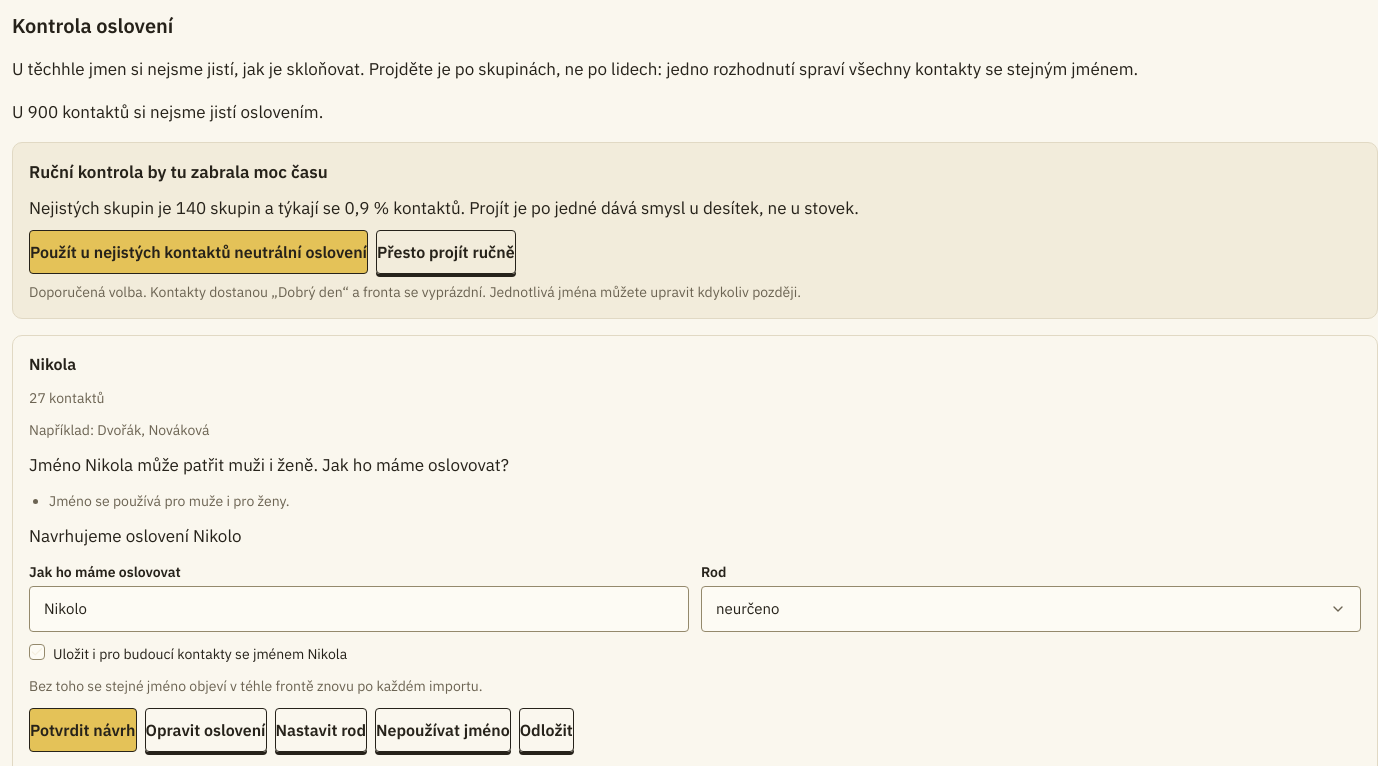
Test case: VocativeReview › „Přesto projít ručně" doporučující blok zavře a frontu nechá být
Click the button "Přesto projít ručně" at (446, 252), box [376,230,516,274]
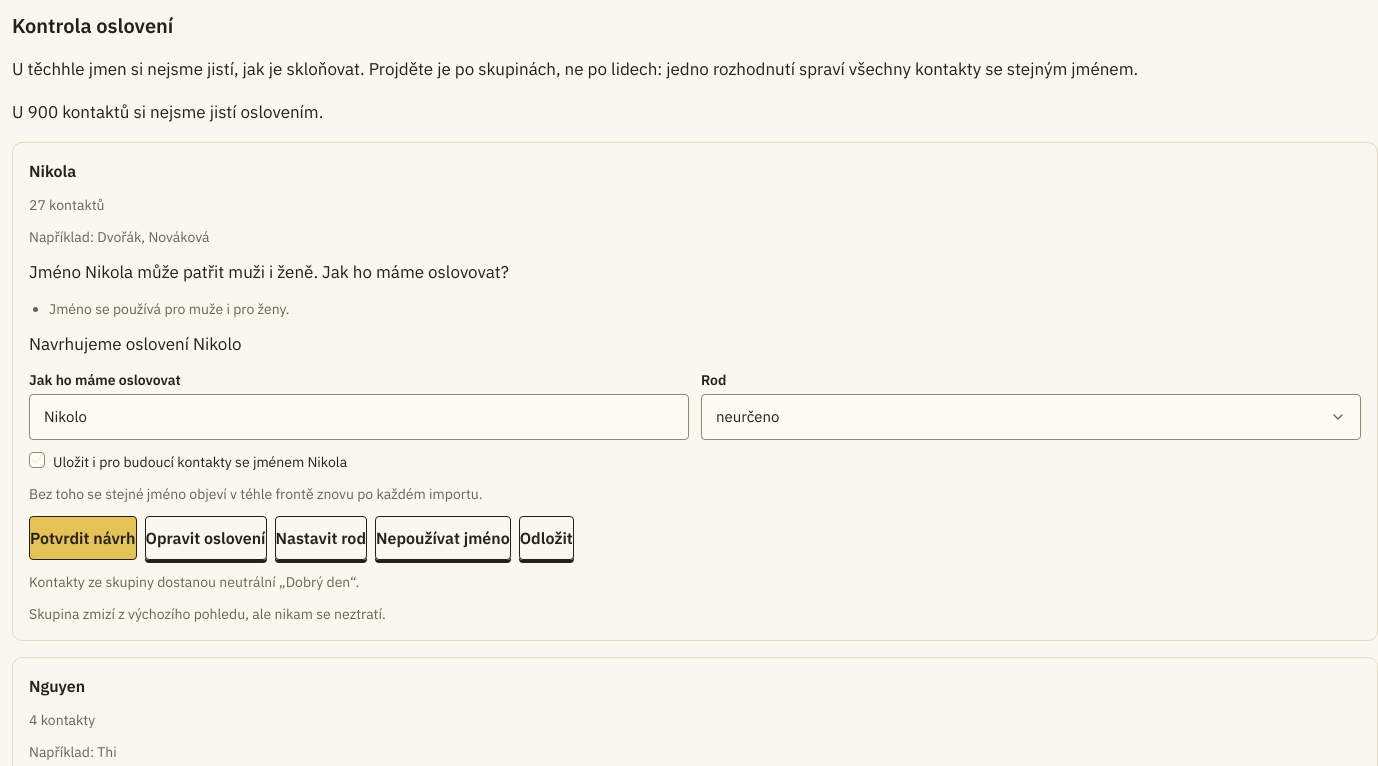
Check: the element with test id "vocative-soft-limit" is gone
